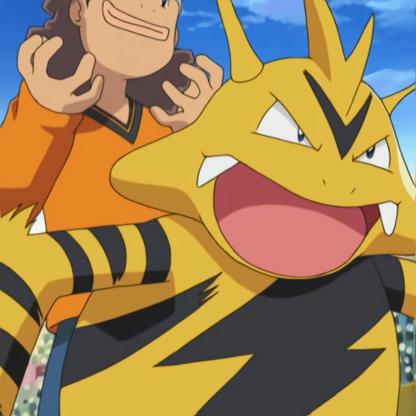Electabuzz: (1, 8, 416, 416)
